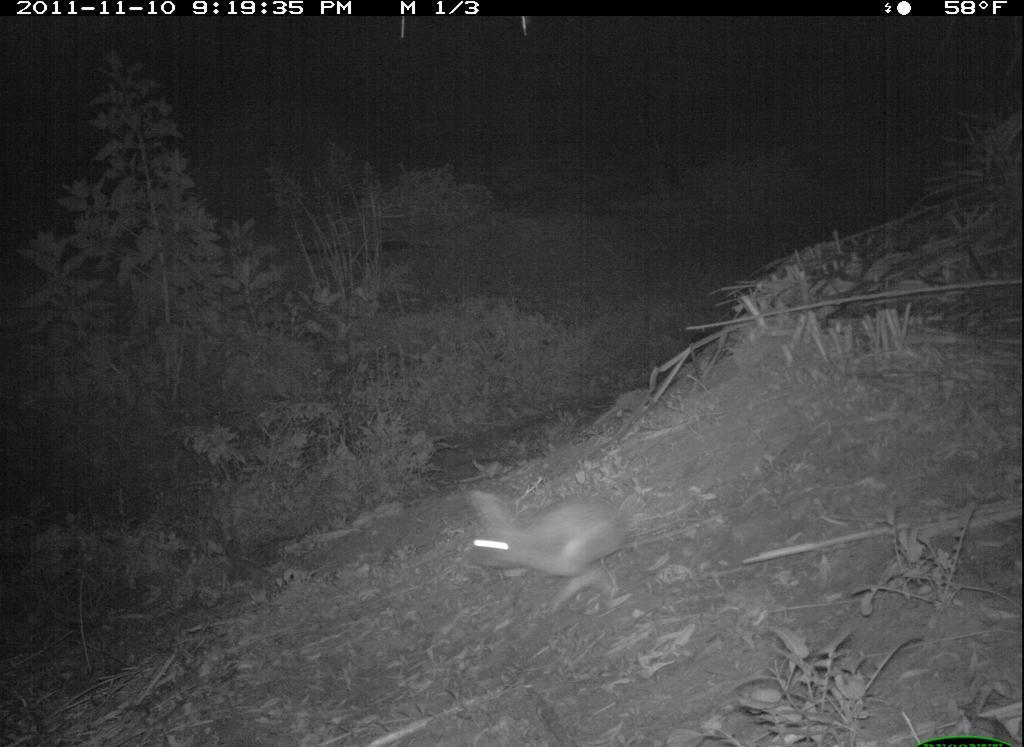rabbit: (456, 482, 647, 600)
